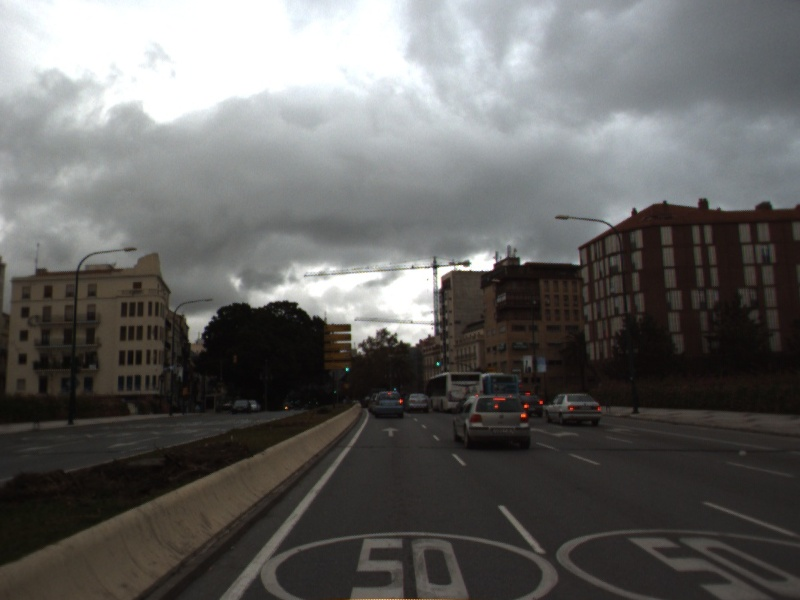RIGHT: (603, 426, 641, 438)
STRAIGHT: (379, 425, 402, 439)
STRAIGHT_RIGHT: (528, 424, 580, 439)
